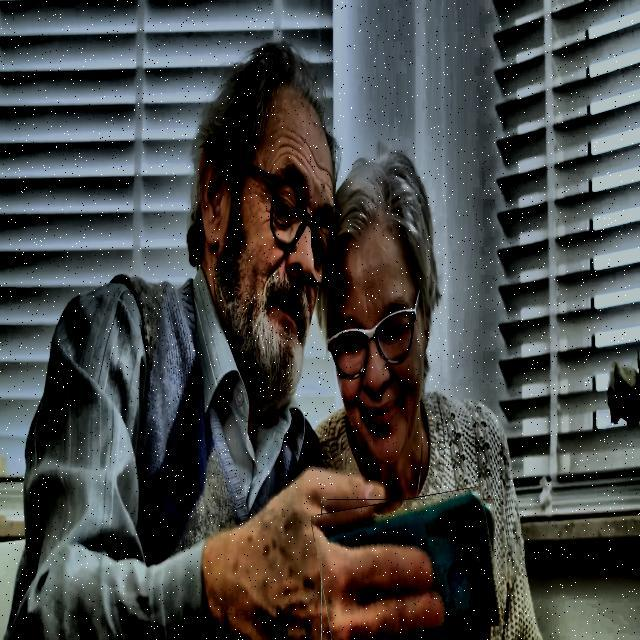Phone: (315, 492, 500, 640)
